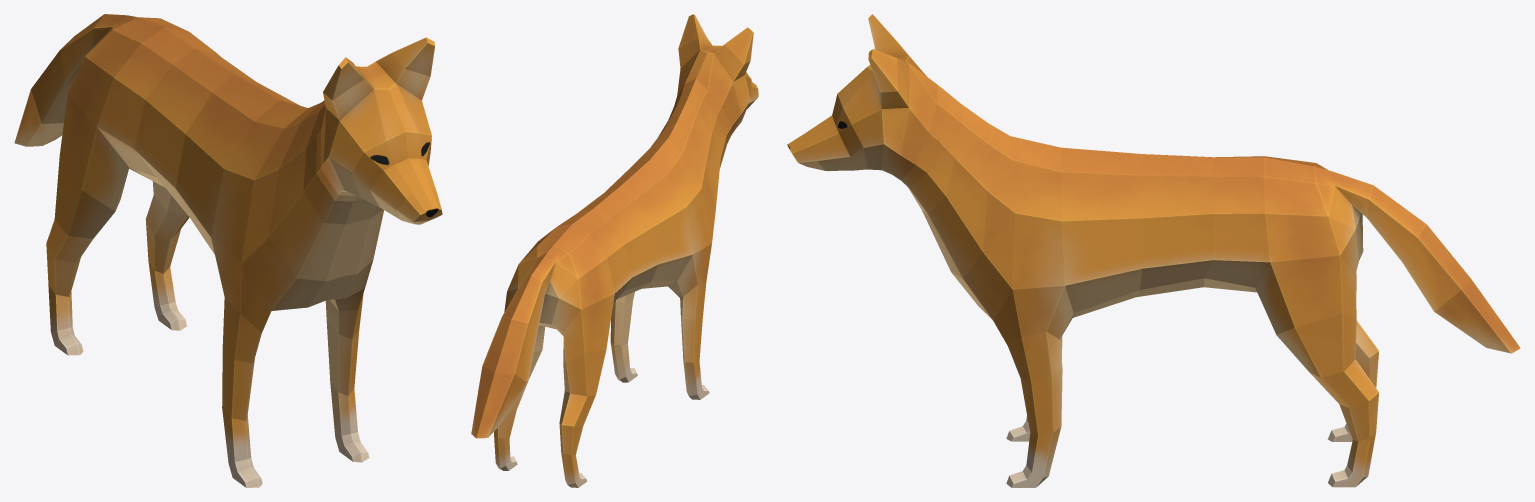
The model's file is Dingo.obj.
3 views of the same model, side by side, from view 1: azimuth 30°, elevation 25°; view 2: azimuth 150°, elevation 25°; view 3: azimuth 270°, elevation 25° (orthographic). The views are drawn at different scales.
Parts seen in each view (by area): view 1: Dingo_mesh; view 2: Dingo_mesh; view 3: Dingo_mesh.
Part boxes in pixels (left/top/right/bottom): Dingo_mesh: left=14, top=14, right=442, bottom=487; Dingo_mesh: left=471, top=14, right=758, bottom=487; Dingo_mesh: left=787, top=14, right=1520, bottom=487.
Bounding box in the file's own units: 0.9952 × 3.42 × 5.29.
Materials: 1 (1 with a texture image).
